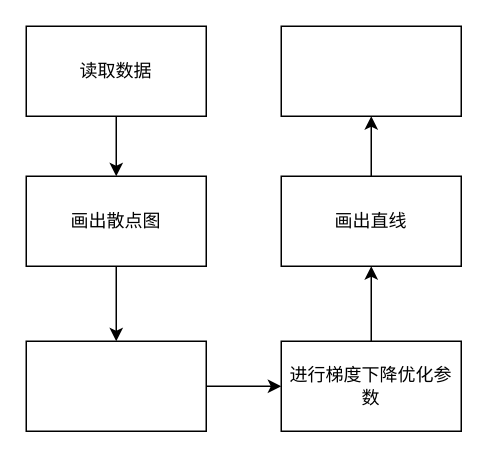
Some shapes in this 488 by 458 pixel diagram are drawn without their labels. The centre of each missing label's shape, as x and y in pixels:
"计算精度" belongs at (370,70).
"设计迭代次数" belongs at (115,385).
